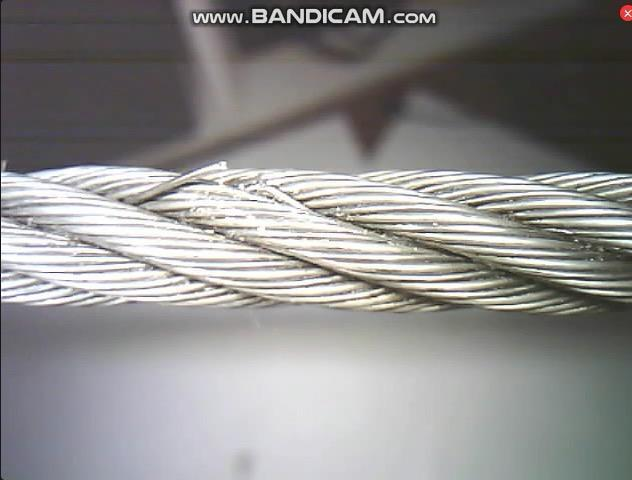break: (130, 148, 239, 209)
